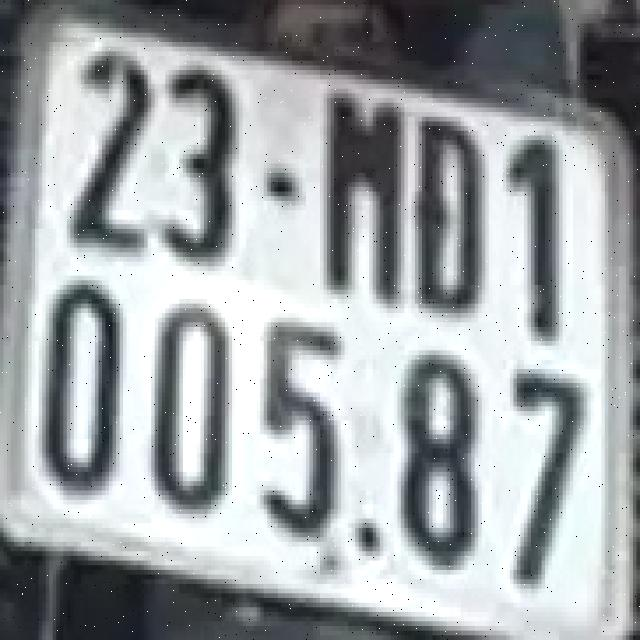0: (40, 280, 121, 495), (151, 299, 232, 514)
1: (506, 135, 566, 341)
2: (68, 47, 150, 252)
3: (162, 66, 236, 262)
5: (258, 313, 343, 537)
7: (508, 369, 586, 589)
8: (399, 350, 480, 570)
D: (413, 116, 487, 318)
M: (318, 86, 403, 302)
